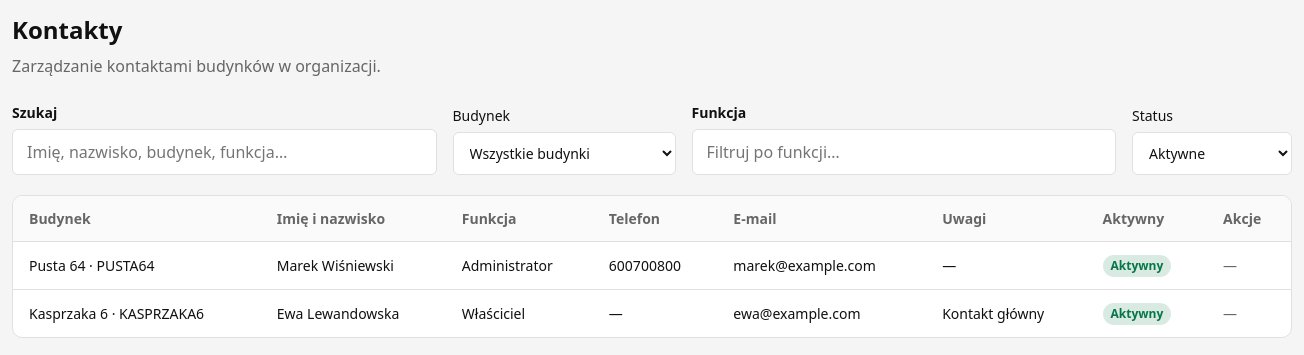
Scenario: ContactsPage › filters by function
Expected: the text "Marek Wiśniewski" is shown, x1=261 y1=242 x2=446 y2=290
Type "Właściciel" into the field labelled "Funkcja" at (904, 152), box x1=692 y1=129 x2=1116 y2=175
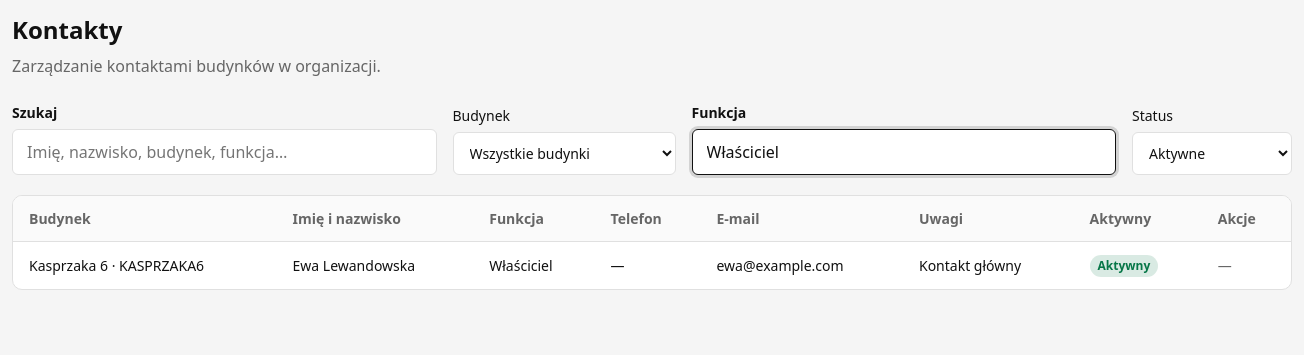
Expected: the text "Ewa Lewandowska" is shown, x1=276 y1=242 x2=473 y2=289
Expected: the text "Marek Wiśniewski" is gone
